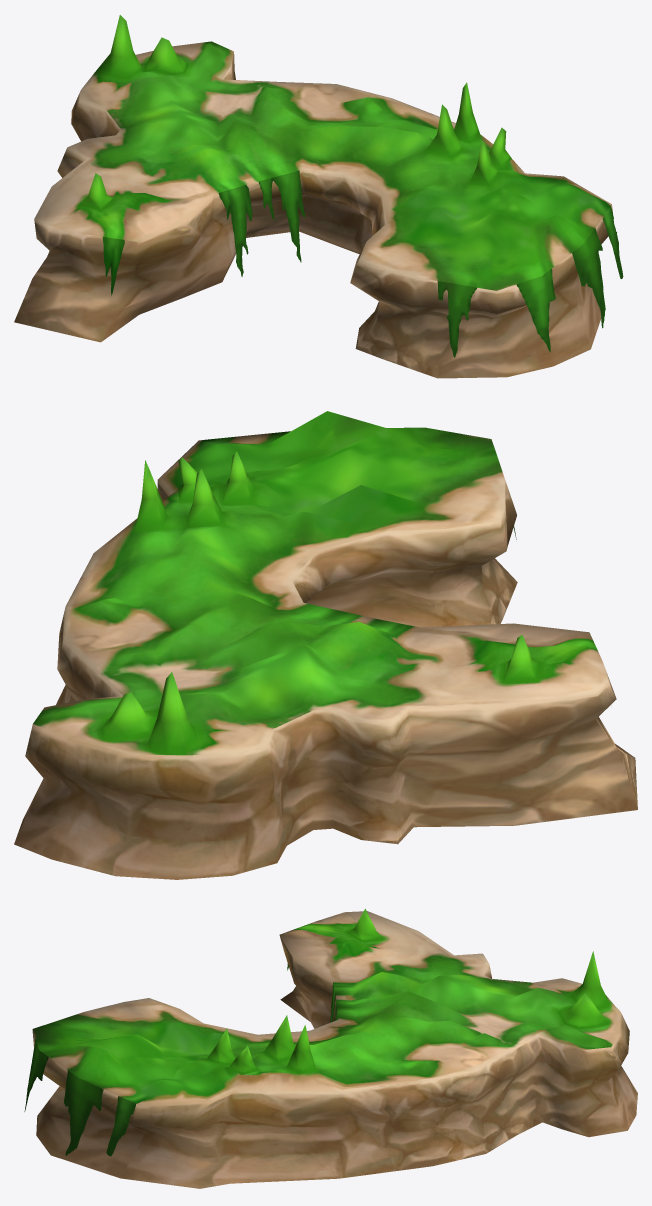
Rendered from shanti03.FBX.
3 views of the same model, one above another, from view 1: azimuth 30°, elevation 25°; view 2: azimuth 150°, elevation 25°; view 3: azimuth 270°, elevation 25° (orthographic). The views are drawn at different scales.
Parts seen in each view (by area): view 1: shanti03; view 2: shanti03; view 3: shanti03.
Boxes of the visible parts, x1,y1,x2,y2 form: shanti03: [14, 15, 623, 378]; shanti03: [14, 411, 637, 879]; shanti03: [24, 908, 637, 1188].
Bounding box in the file's own units: 732 × 225 × 915.
